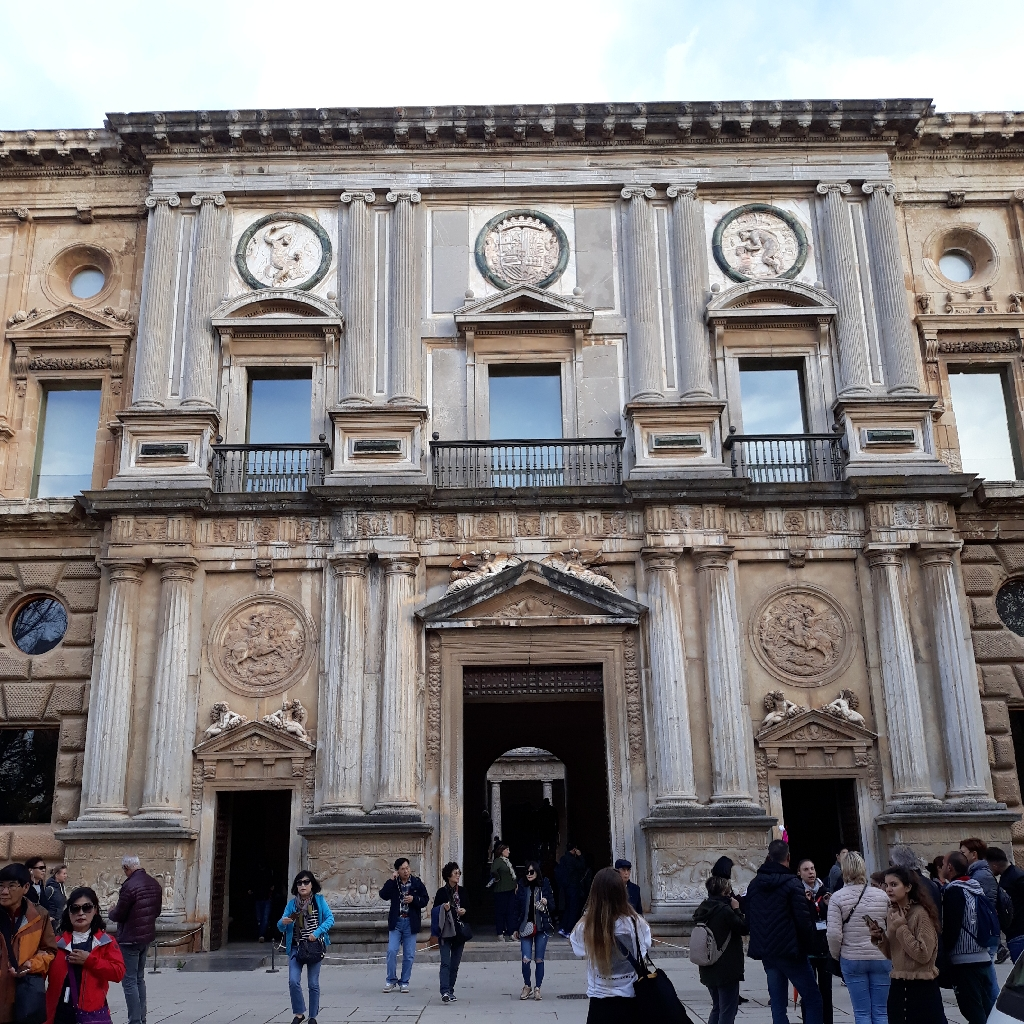fronton: (409, 559, 653, 631), (452, 279, 598, 326), (2, 302, 133, 347), (752, 707, 880, 752), (190, 720, 317, 762)
fronton-curvo: (205, 285, 347, 333), (705, 279, 844, 319)
ojo-de-buey: (921, 224, 1002, 291), (1, 585, 72, 658), (39, 241, 116, 305)
vano-adintelado: (435, 640, 631, 942), (196, 775, 302, 953), (769, 766, 878, 925), (222, 348, 332, 493), (721, 340, 828, 483), (473, 347, 579, 487), (22, 365, 108, 502), (936, 353, 1024, 482)
